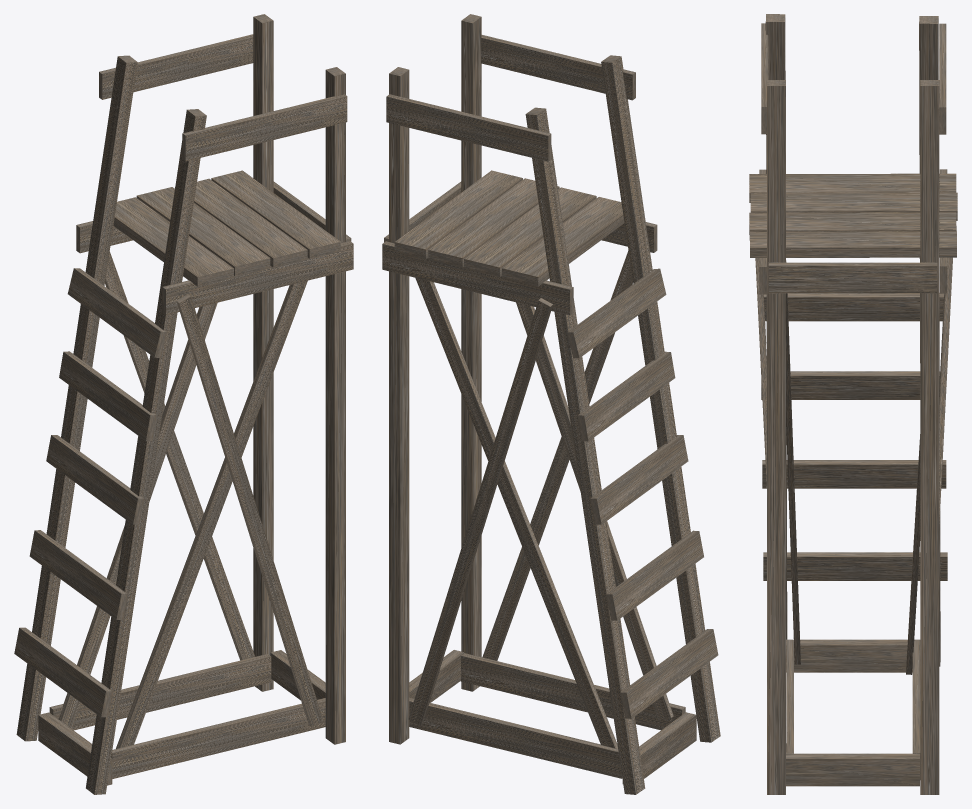
The model's file is stand.obj.
3 views of the same model, side by side, from view 1: azimuth 30°, elevation 25°; view 2: azimuth 150°, elevation 25°; view 3: azimuth 270°, elevation 25° (orthographic). The views are drawn at different scales.
Parts seen in each view (by area): view 1: Cube.001_Cube.003, Cube.003_Cube.005, Cube.002_Cube.004, Cube_Cube.002, Cube.024_Cube.030, Cube.025_Cube.031, Cube.017_Cube.023, Cube.004_Cube.006, Cube.016_Cube.022, Cube.027_Cube.033, Cube.008_Cube.010, Cube.026_Cube.032 (+14 smaller); view 2: Cube_Cube.002, Cube.002_Cube.004, Cube.003_Cube.005, Cube.001_Cube.003, Cube.026_Cube.032, Cube.027_Cube.033, Cube.016_Cube.022, Cube.005_Cube.007, Cube.017_Cube.023, Cube.025_Cube.031, Cube.010_Cube.012, Cube.024_Cube.030 (+14 smaller); view 3: Cube_Cube.002, Cube.001_Cube.003, Cube.006_Cube.008, Cube.009_Cube.011, Cube.019_Cube.025, Cube.007_Cube.009, Cube.022_Cube.028, Cube.023_Cube.029, Cube.021_Cube.027, Cube.018_Cube.024, Cube.012_Cube.018, Cube.011_Cube.013 (+11 smaller).
Boxes of the visible parts, <box> form: Cube.001_Cube.003: <box>325,67,345,744</box>; Cube.003_Cube.005: <box>86,109,206,794</box>; Cube.002_Cube.004: <box>16,55,137,741</box>; Cube_Cube.002: <box>253,14,273,691</box>; Cube.024_Cube.030: <box>116,280,307,748</box>; Cube.025_Cube.031: <box>176,294,323,727</box>; Cube.017_Cube.023: <box>111,698,325,778</box>; Cube.004_Cube.006: <box>182,94,347,161</box>; Cube.016_Cube.022: <box>49,654,271,730</box>; Cube.027_Cube.033: <box>105,251,255,660</box>; Cube.008_Cube.010: <box>162,241,353,314</box>; Cube.026_Cube.032: <box>58,302,217,728</box>; Cube_Cube.002: <box>389,67,409,744</box>; Cube.002_Cube.004: <box>525,107,645,794</box>; Cube.003_Cube.005: <box>601,55,720,742</box>; Cube.001_Cube.003: <box>461,14,481,691</box>; Cube.026_Cube.032: <box>415,278,617,748</box>; Cube.027_Cube.033: <box>408,298,552,725</box>; Cube.016_Cube.022: <box>409,697,622,778</box>; Cube.005_Cube.007: <box>386,94,551,161</box>; Cube.017_Cube.023: <box>460,653,685,730</box>; Cube.025_Cube.031: <box>482,250,632,660</box>; Cube.010_Cube.012: <box>382,241,573,315</box>; Cube.024_Cube.030: <box>516,302,673,720</box>; Cube_Cube.002: <box>920,80,939,794</box>; Cube.001_Cube.003: <box>767,80,785,794</box>; Cube.006_Cube.008: <box>768,262,937,293</box>; Cube.009_Cube.011: <box>750,231,956,257</box>; Cube.019_Cube.025: <box>786,753,919,786</box>; Cube.007_Cube.009: <box>763,293,944,321</box>; Cube.022_Cube.028: <box>762,460,946,488</box>; Cube.023_Cube.029: <box>763,552,947,580</box>; Cube.021_Cube.027: <box>761,371,940,399</box>; Cube.018_Cube.024: <box>786,639,919,672</box>; Cube.012_Cube.018: <box>750,192,957,220</box>; Cube.011_Cube.013: <box>749,212,956,240</box>.
Bounding box in the file's own units: 8.26 × 20.41 × 5.44.
Materials: 1 (1 with a texture image).
